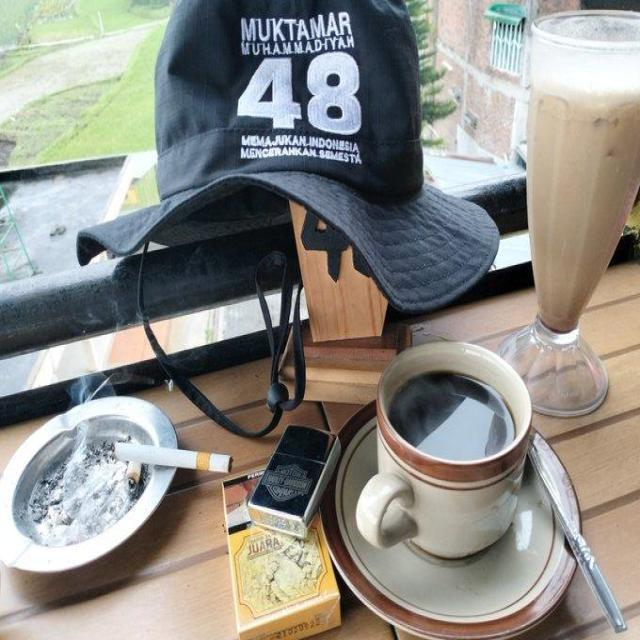rokok: (106, 434, 238, 482), (125, 452, 144, 494)
